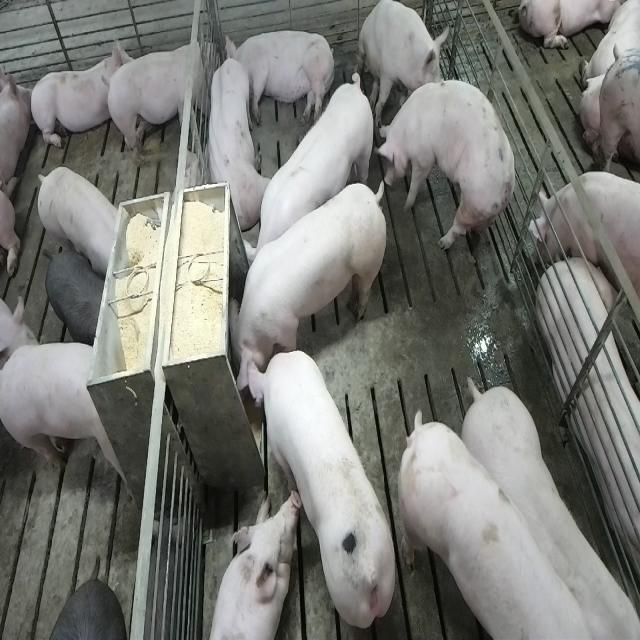Feeding: (242, 346, 400, 630), (230, 174, 393, 392)
Lateral_lying: (539, 255, 640, 599), (225, 28, 337, 128)
Sitting: (353, 2, 449, 128)
Standing: (465, 379, 640, 640), (244, 65, 378, 284), (377, 78, 521, 272), (0, 341, 126, 491), (105, 32, 218, 171), (531, 172, 640, 306), (36, 165, 128, 276), (44, 246, 108, 346)
Sternal_lying: (206, 490, 296, 640), (203, 50, 266, 232), (28, 36, 124, 154)
